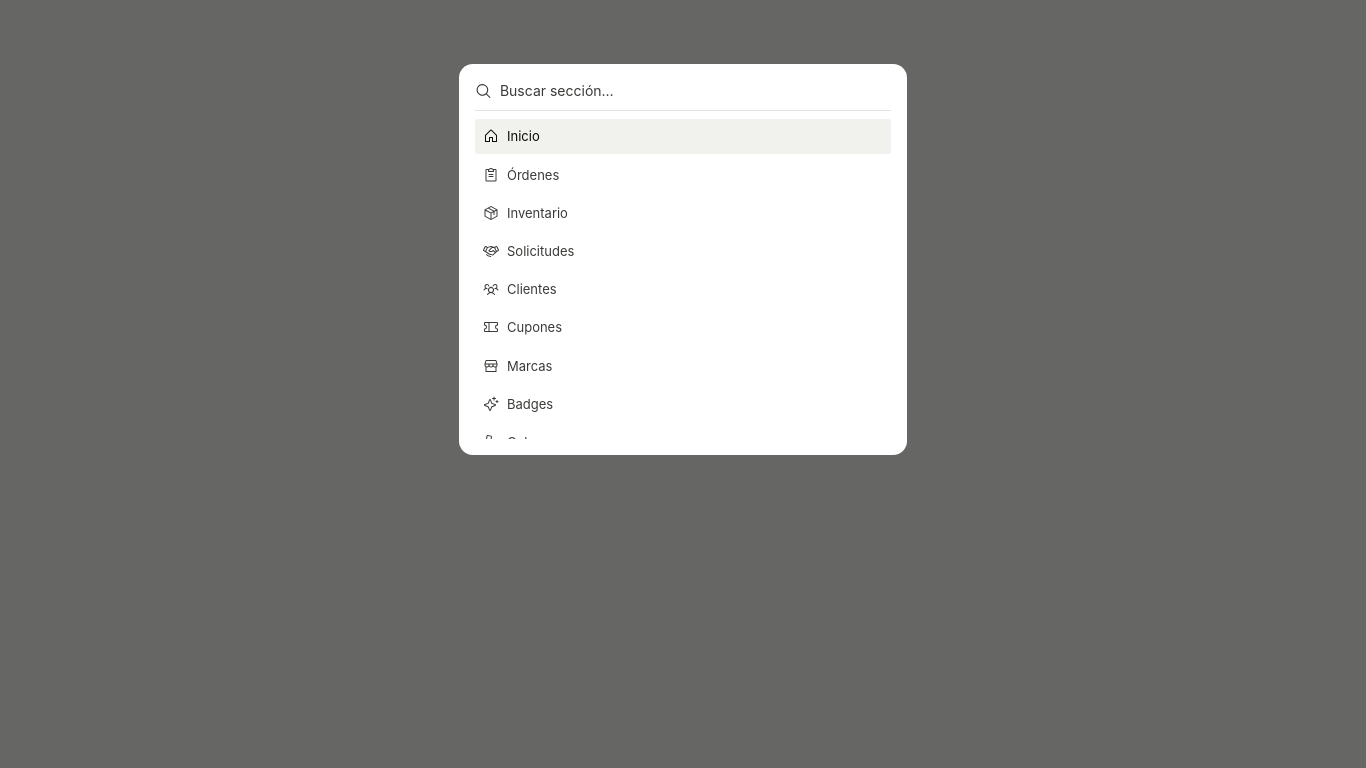
it: CommandPalette › still finds Auditoría by its keywords when searching, for a superadmin
The width and height of the screenshot is (1366, 768).
Type "bitacora" into the field labelled "Buscar sección". click: (695, 91)
box: [500,80,891,102]
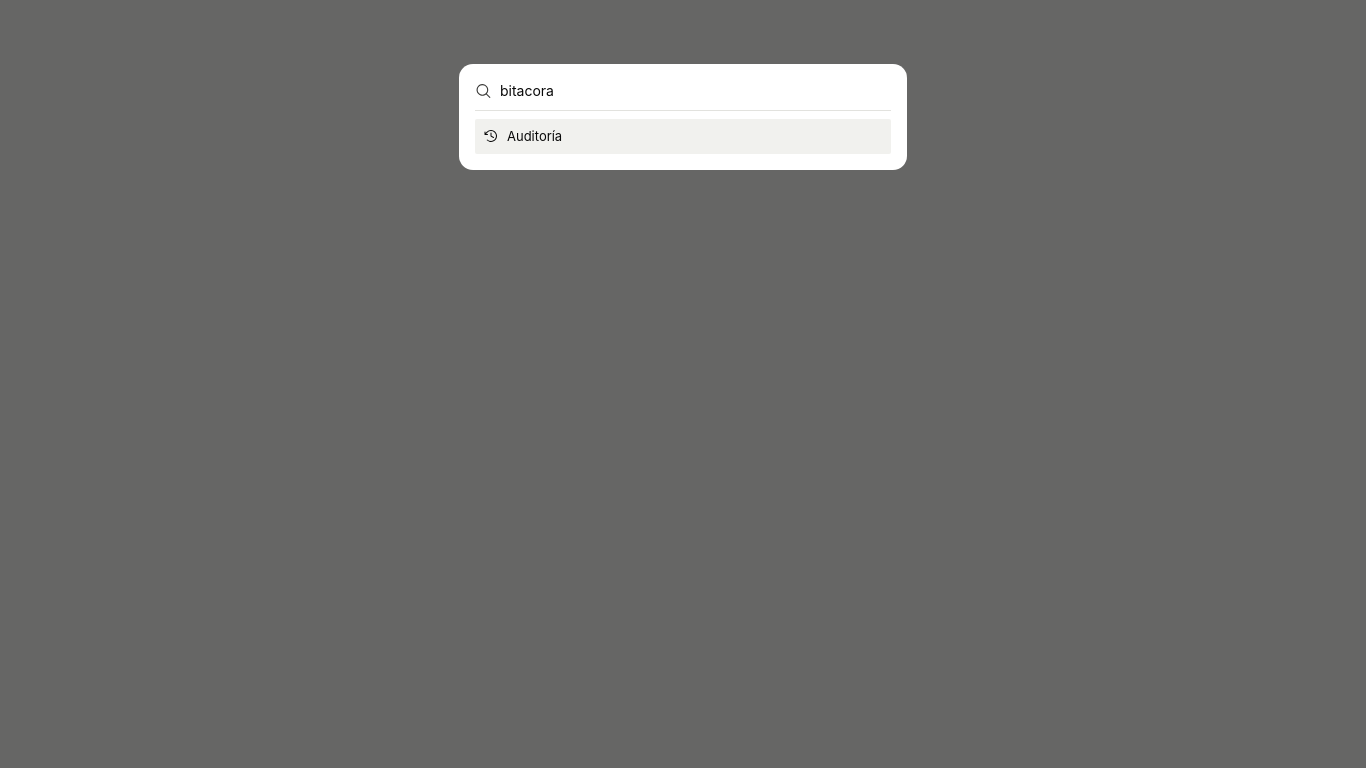
Check: the option "Auditoría" is shown, box [475,119,891,154]
